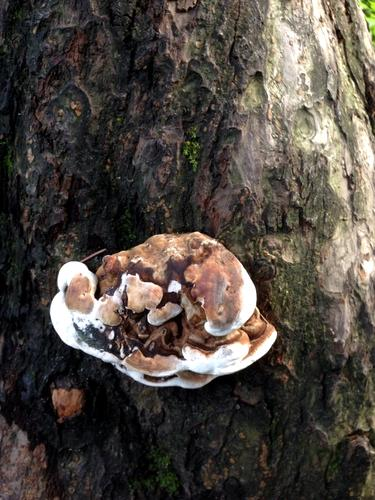Ganoderma - Fruit Body: (48, 232, 283, 392)
